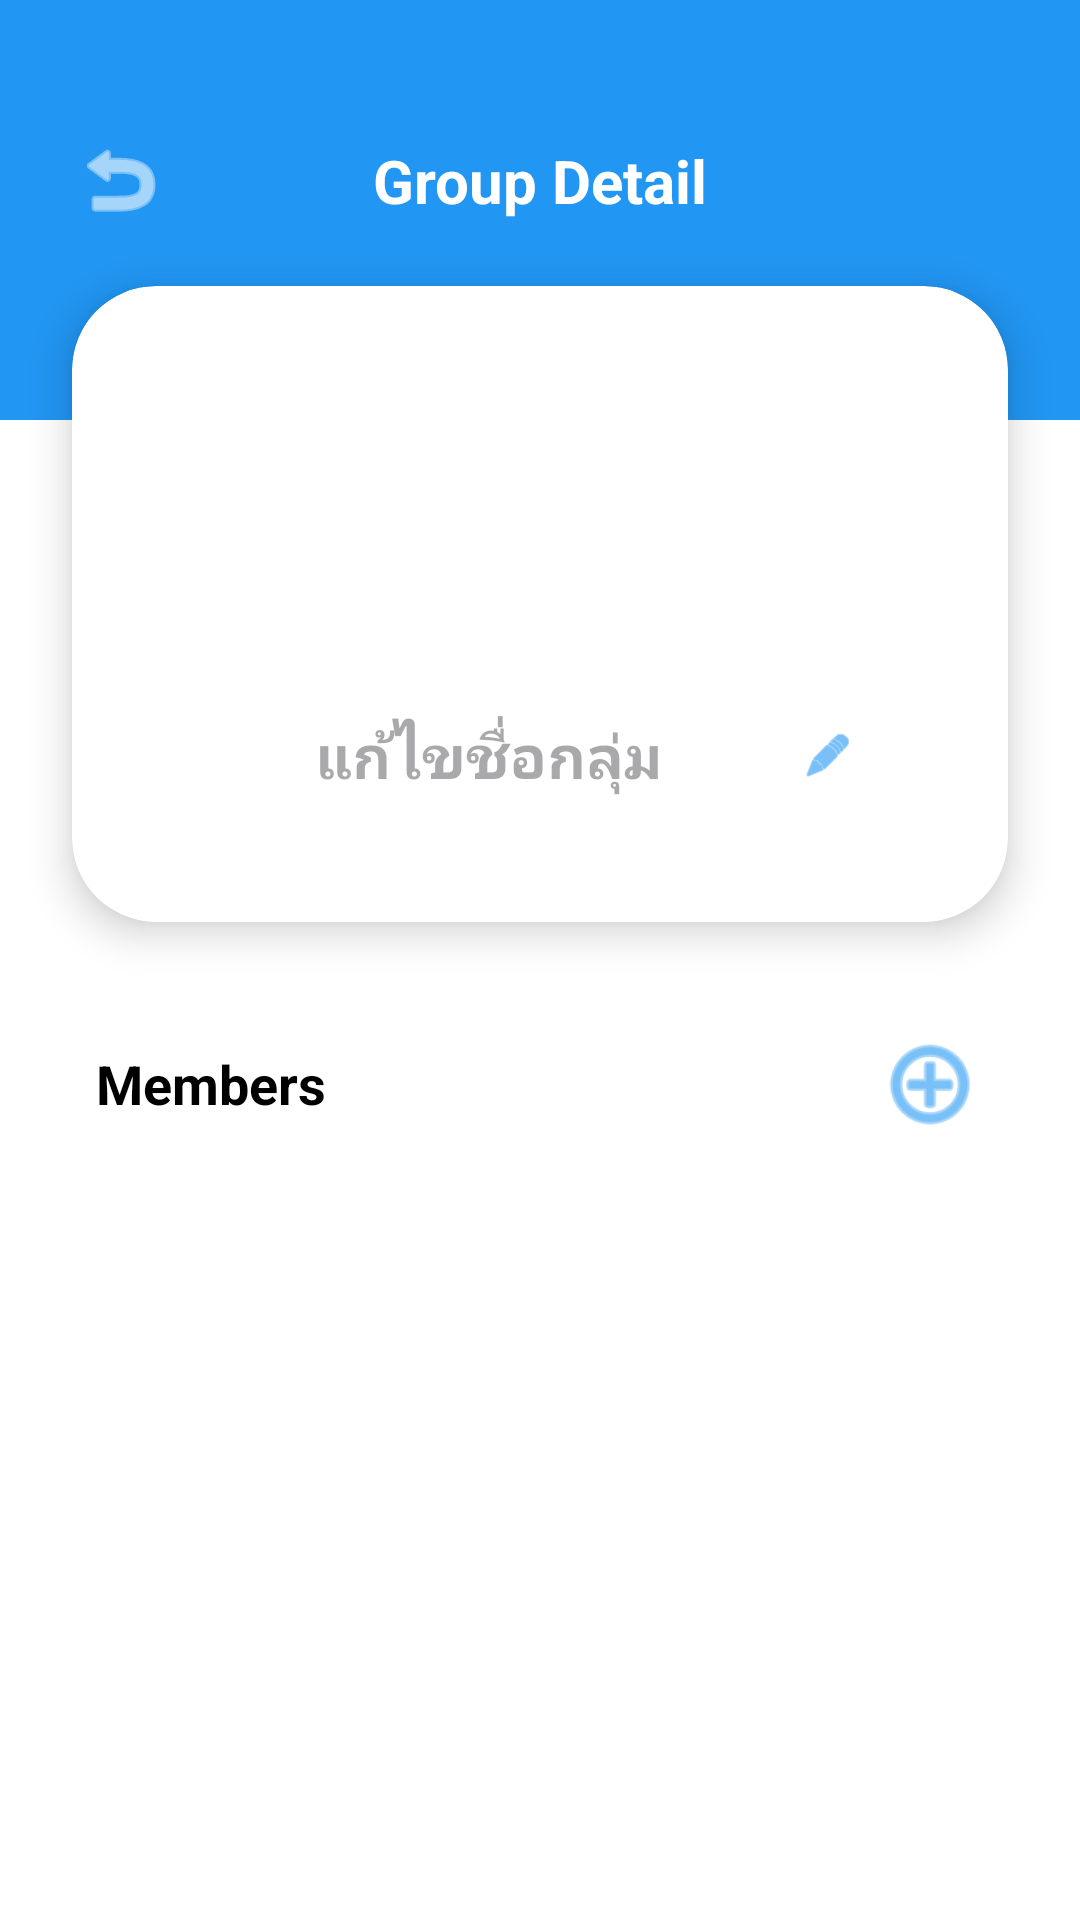

Named icons in this screenshot (1080px×1920px) and their centers, (x=x, y=y):
add: (x=930, y=1084)
edit: (x=827, y=755)
revert: (x=121, y=180)
